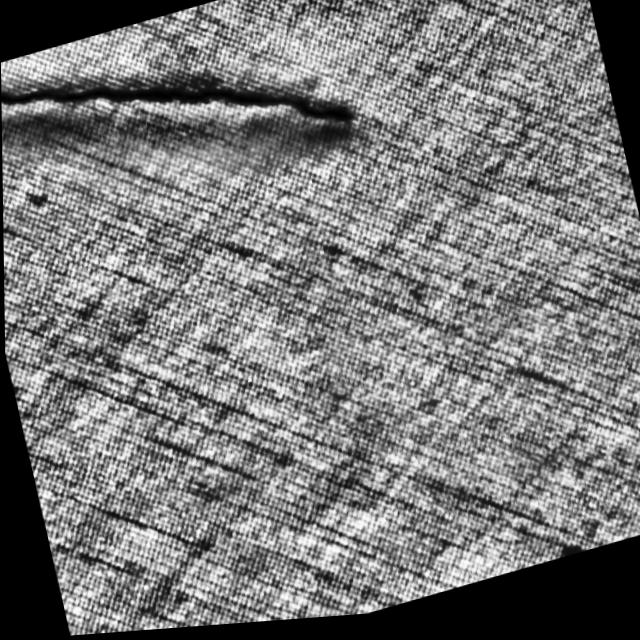Stitch: (0, 0, 356, 231)
